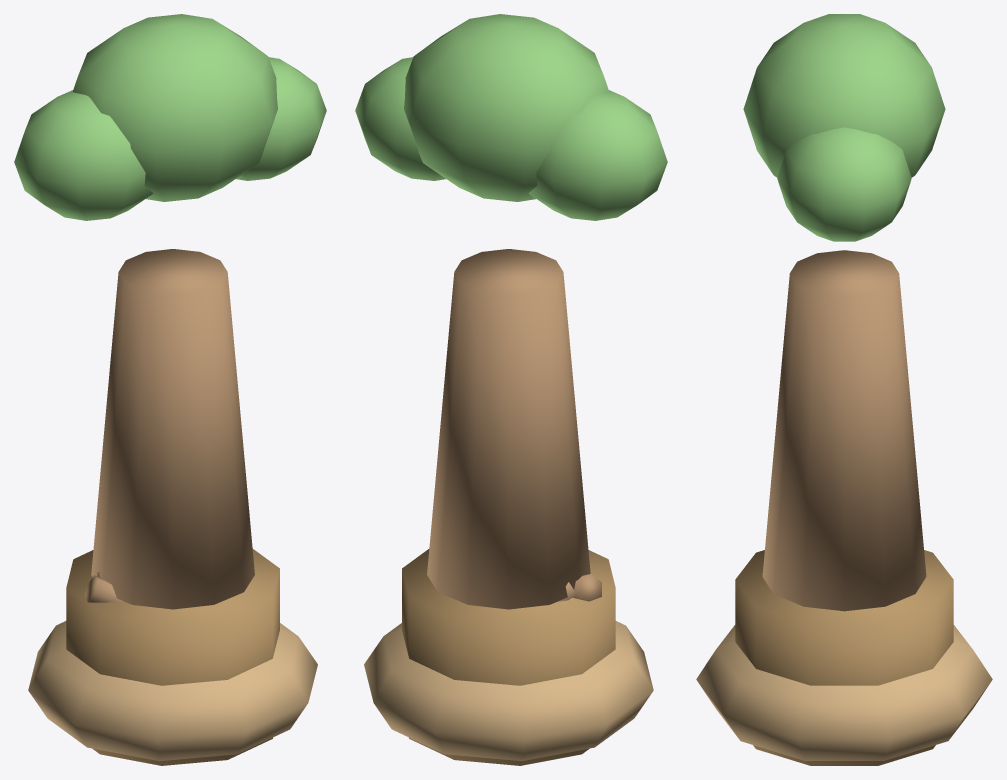
Rendered from elder_oak.fbx.
3 views of the same model, side by side, from view 1: azimuth 30°, elevation 25°; view 2: azimuth 150°, elevation 25°; view 3: azimuth 270°, elevation 25° (orthographic).
Parts seen in each view (by area): view 1: PLQ_elder_oak_mature; view 2: PLQ_elder_oak_mature; view 3: PLQ_elder_oak_mature.
Part boxes in pixels (x1,y1,x2,y2): PLQ_elder_oak_mature: [14, 14, 326, 765]; PLQ_elder_oak_mature: [355, 14, 667, 765]; PLQ_elder_oak_mature: [696, 14, 992, 765].
Bounding box in the file's own units: 75.62 × 177 × 66.64.
